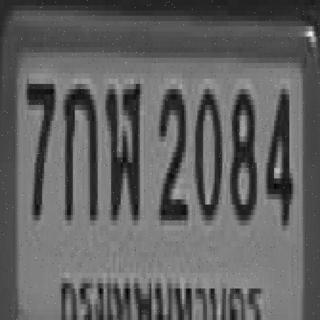A01: (63, 79, 96, 215)
A42: (105, 79, 139, 215)
N00: (193, 84, 220, 215)
N02: (157, 84, 184, 215)
N04: (264, 84, 291, 220)
N07: (25, 79, 54, 215)
N08: (228, 84, 255, 215)
